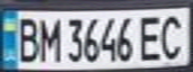3: (63, 15, 84, 63)
4: (100, 14, 121, 62)
6: (115, 12, 139, 62), (81, 14, 103, 63)
B: (12, 14, 42, 63)
C: (157, 10, 190, 60)
E: (136, 12, 166, 62)
M: (36, 14, 60, 63)
